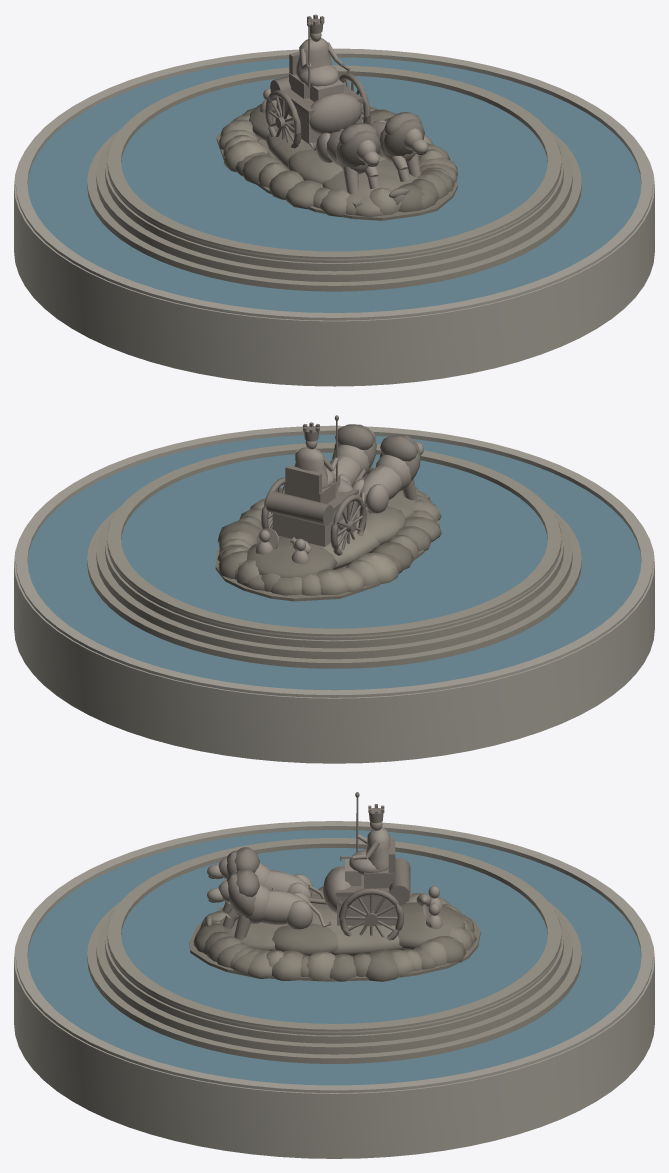
3 renders of one model, top to bottom at view 1: azimuth 30°, elevation 25°; view 2: azimuth 150°, elevation 25°; view 3: azimuth 270°, elevation 25°, orthographic.
Visible parts, largest first — view 1: fuente_de_cibeles, water; view 2: fuente_de_cibeles, water; view 3: fuente_de_cibeles, water.
Boxes of the visible parts, x1,y1,x2,y2 form: fuente_de_cibeles: [14, 14, 654, 386]; water: [27, 57, 641, 312]; fuente_de_cibeles: [14, 415, 654, 763]; water: [27, 434, 641, 690]; fuente_de_cibeles: [14, 792, 654, 1158]; water: [27, 830, 641, 1085].
Bounding box in the file's own units: 29.64 × 11.46 × 29.64.
